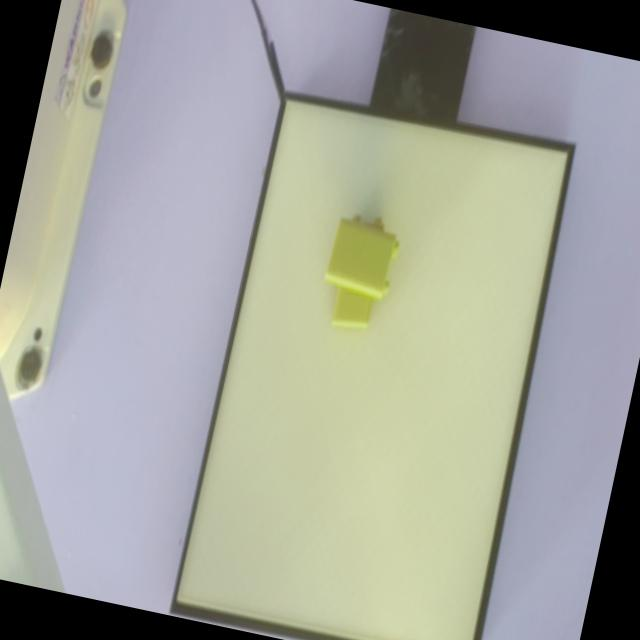bateria: (325, 215, 399, 299)
mesa: (169, 92, 576, 640)
